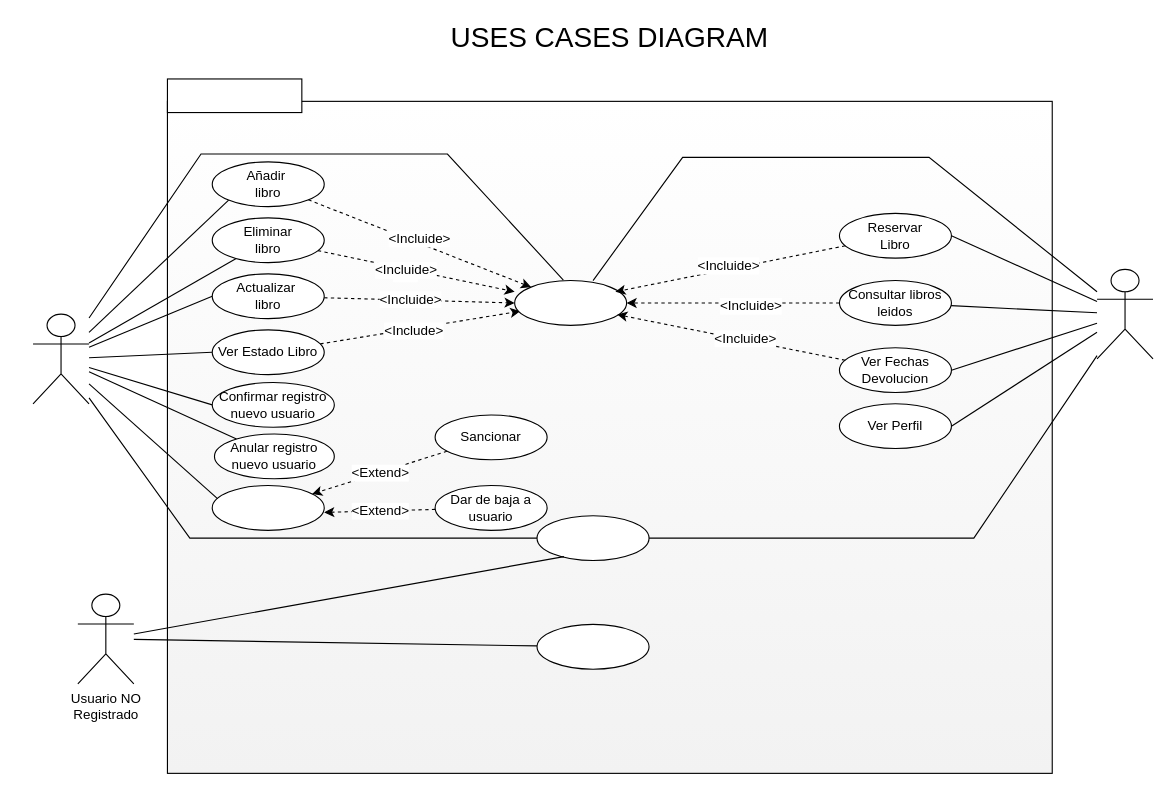
Some shapes in this 1176 by 793 pixel diagram are drawn without their labels. The centre of each missing label's shape, as x and y in pixels:
"Administrador" belongs at pixel 60 358.
"Consultar libro" belongs at pixel 592 538.
"Library" belongs at pixel 234 95.
"Login" belongs at pixel 570 302.
"Registrarse" belongs at pixel 592 646.
"Usuario Registrado" belongs at pixel 1124 313.
"Ver usuarios" belongs at pixel 267 507.
